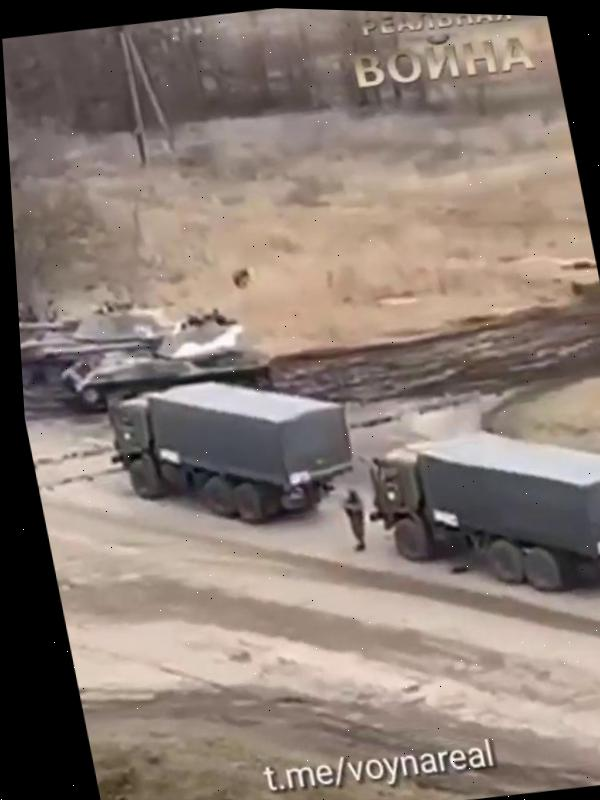person: (339, 486, 373, 553)
sau: (52, 296, 271, 424), (17, 290, 185, 394)
truck: (351, 406, 600, 617), (96, 358, 368, 544)
